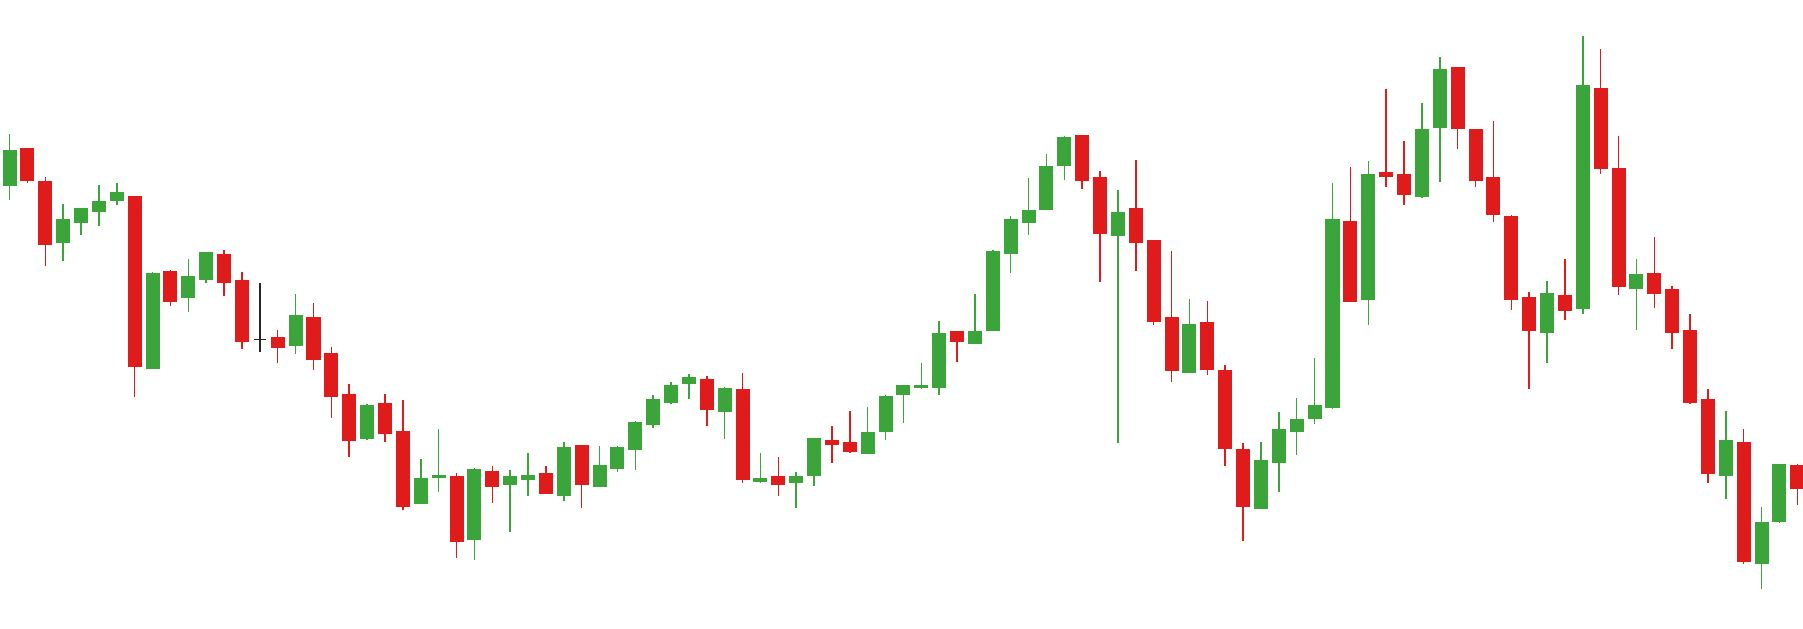sell: (1429, 37, 1610, 221)
